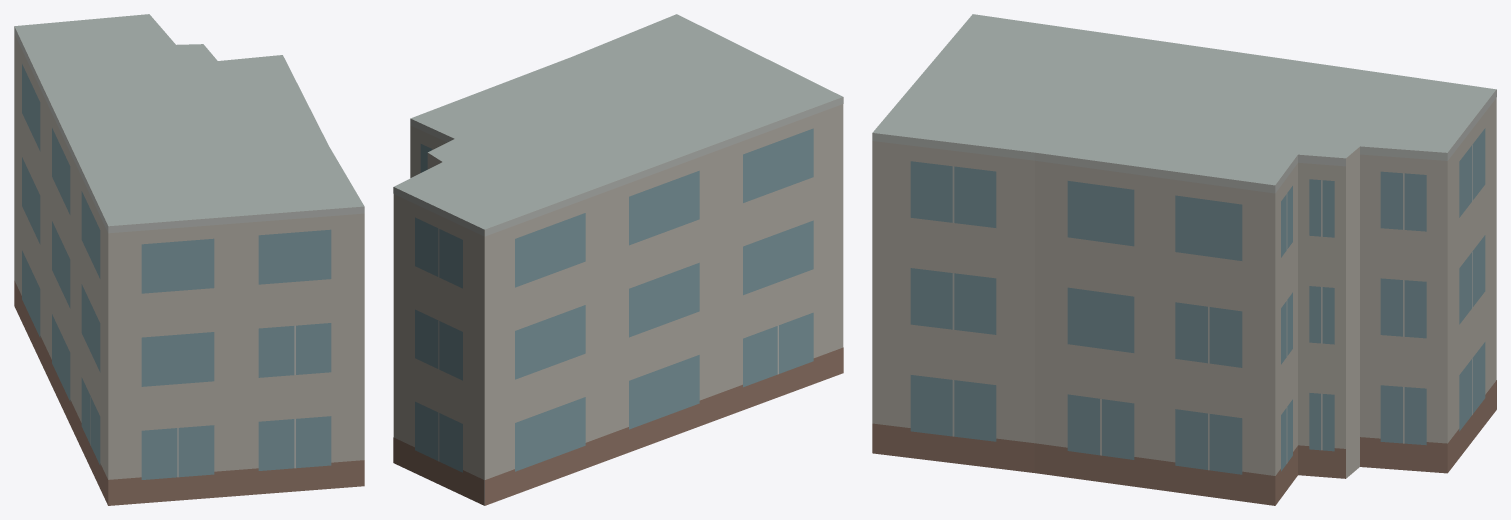
The model's file is survey-upis-33019689.glb.
The picture shows the model from 3 angles, left to right: view 1: azimuth 30°, elevation 25°; view 2: azimuth 150°, elevation 25°; view 3: azimuth 270°, elevation 25°; orthographic projection. The views are drawn at different scales.
Parts seen in each view (by area): view 1: survey-upis-33019689.tmp; view 2: survey-upis-33019689.tmp; view 3: survey-upis-33019689.tmp.
Boxes of the visible parts, x1,y1,x2,y2 form: survey-upis-33019689.tmp: (14, 14, 364, 505); survey-upis-33019689.tmp: (393, 14, 843, 505); survey-upis-33019689.tmp: (872, 14, 1496, 505).
Size of the model in its own units: 11.08 by 9.65 by 17.05.
